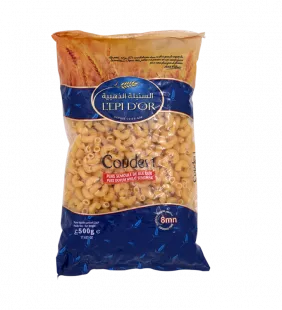L'EPI D'OR: (44, 20, 219, 290)
